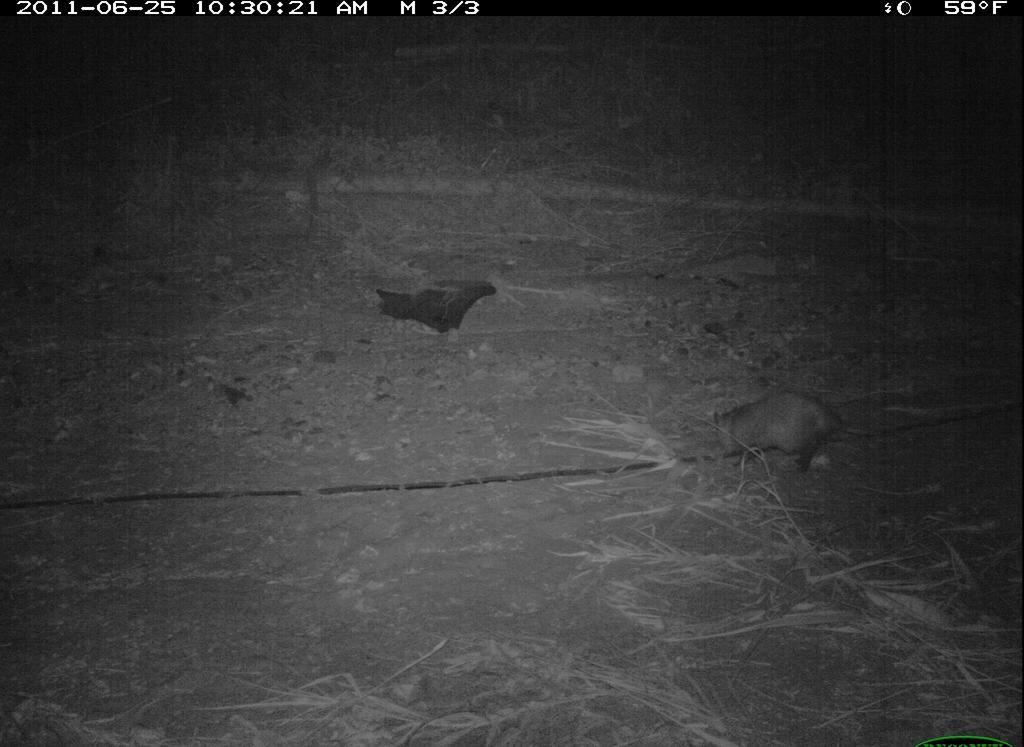opossum: (703, 392, 890, 492)
